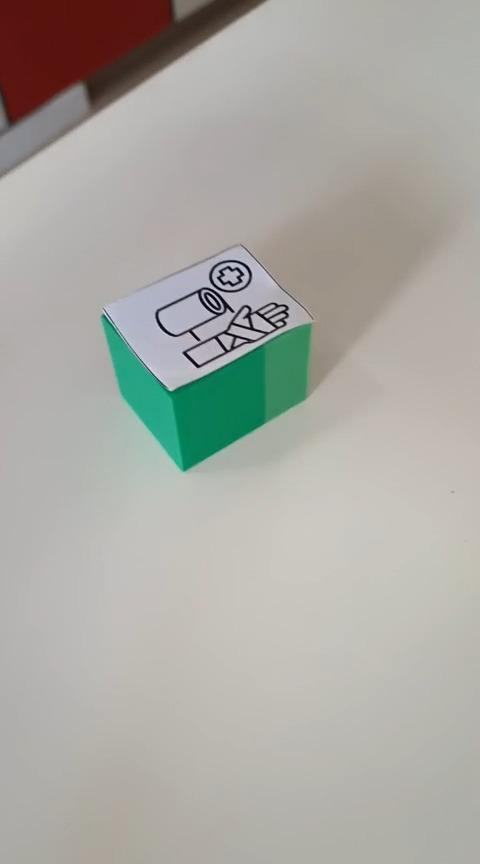Bandages: (99, 242, 315, 472)
